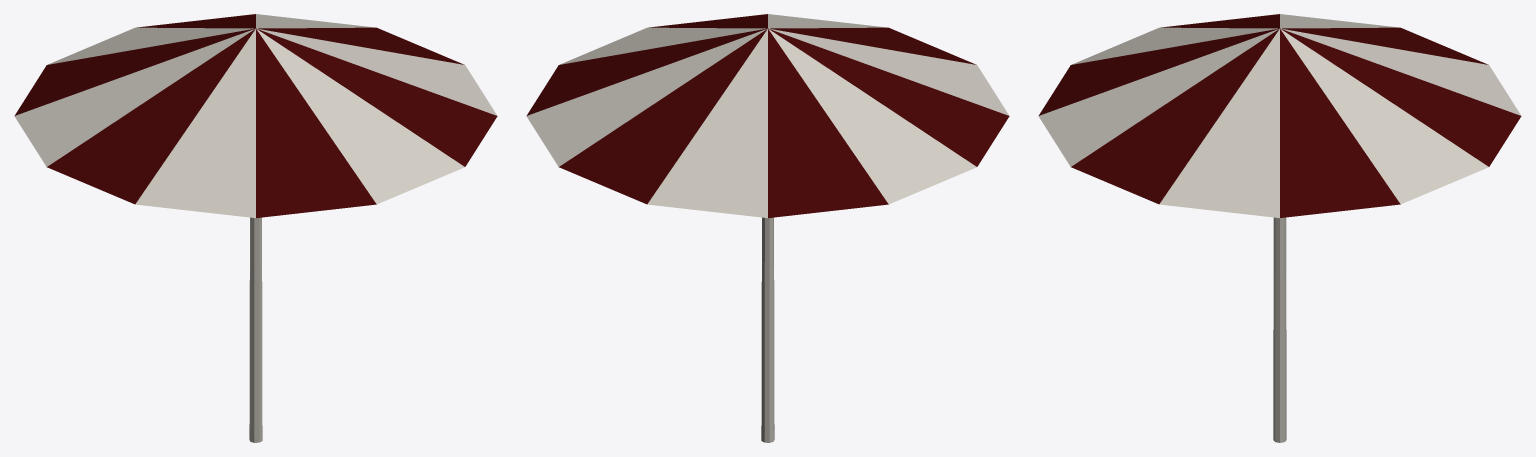
Rendered from Prop_Umbrella.glb.
3 renders of one model, left to right at view 1: azimuth 30°, elevation 25°; view 2: azimuth 150°, elevation 25°; view 3: azimuth 270°, elevation 25°, orthographic.
Visible parts, largest first — view 1: Prop_Umbrella; view 2: Prop_Umbrella; view 3: Prop_Umbrella.
Part boxes in pixels (bbox=[...]): Prop_Umbrella: bbox=[14, 14, 497, 442]; Prop_Umbrella: bbox=[526, 14, 1009, 442]; Prop_Umbrella: bbox=[1038, 14, 1521, 442].
Size of the model in its own units: 2.5 by 2.35 by 2.5.
